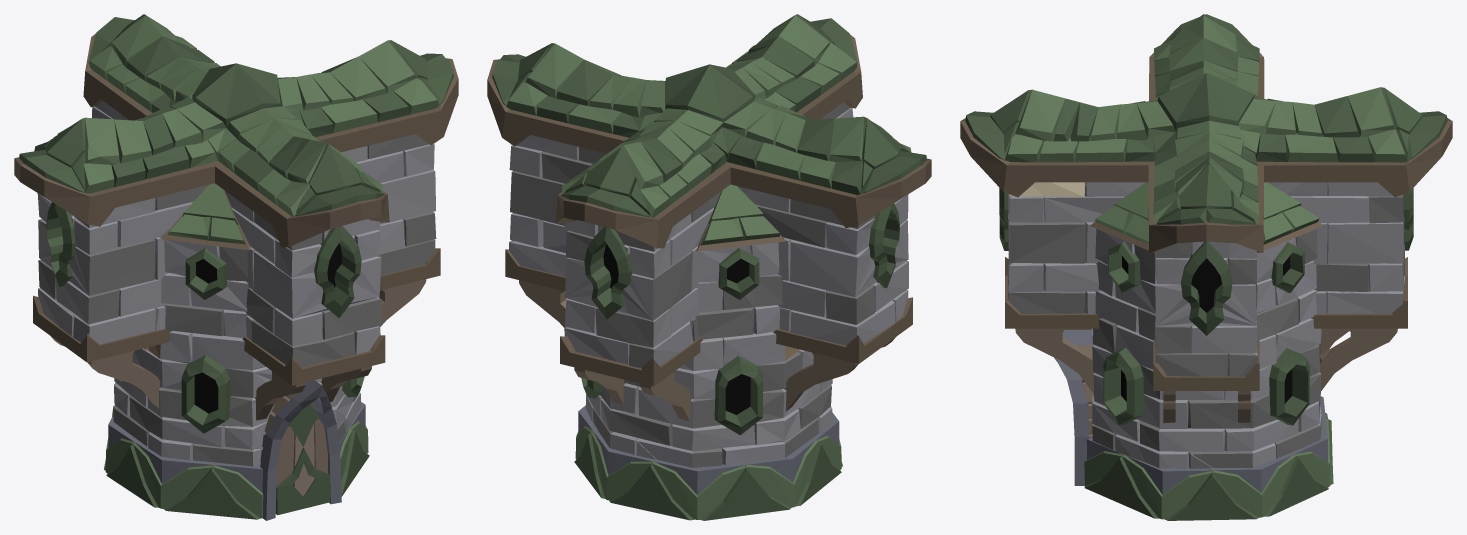
File: _tavern.fbx
3 renders of one model, left to right at view 1: azimuth 30°, elevation 25°; view 2: azimuth 150°, elevation 25°; view 3: azimuth 270°, elevation 25°, orthographic.
Visible parts, largest first — view 1: tavern; view 2: tavern; view 3: tavern.
Boxes of the visible parts, <box> form: tavern: <box>14,14,458,520</box>; tavern: <box>487,14,931,520</box>; tavern: <box>960,14,1452,520</box>.
Size of the model in its own units: 1016 by 901 by 1016.
